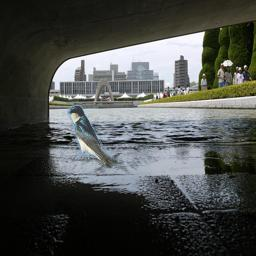Swallow: (67, 105, 118, 168)
